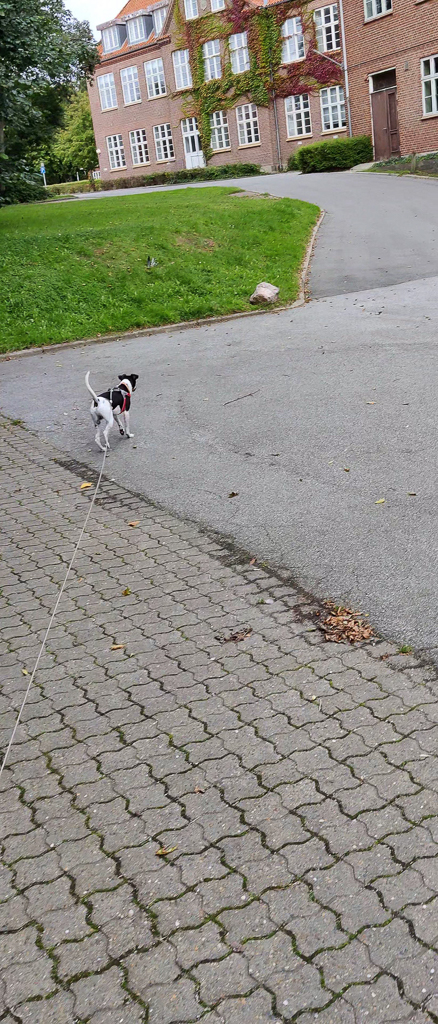Dog: (75, 366, 154, 456)
